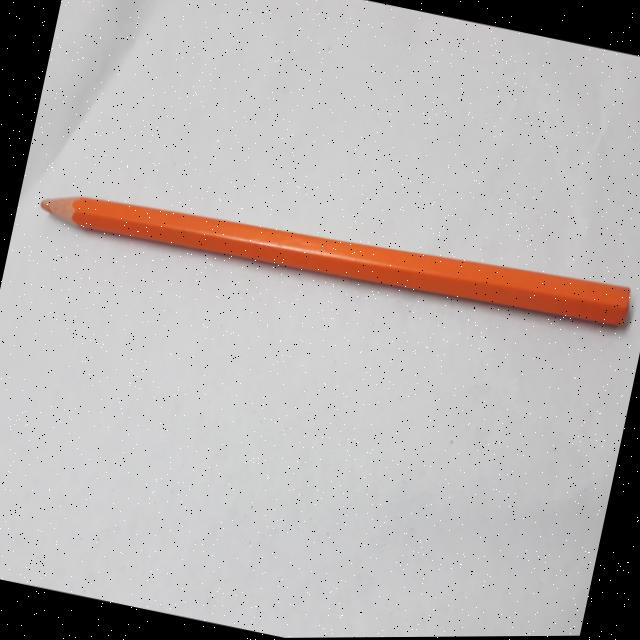pencil: (28, 155, 639, 357)
